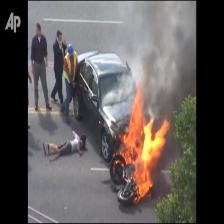fire: (122, 121, 158, 196)
smoke: (145, 7, 195, 107)
